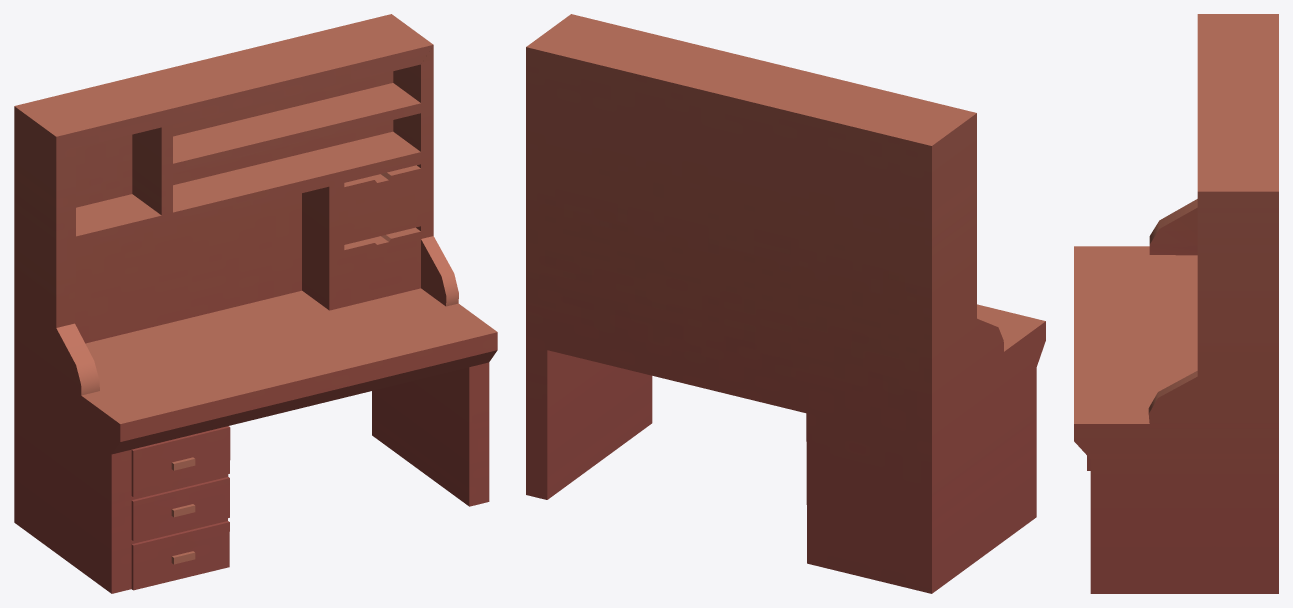
The model's file is SM_Desk_1_01.fbx.
3 views of the same model, side by side, from view 1: azimuth 30°, elevation 25°; view 2: azimuth 150°, elevation 25°; view 3: azimuth 270°, elevation 25° (orthographic). The views are drawn at different scales.
Parts seen in each view (by area): view 1: SM_Desk_1_01; view 2: SM_Desk_1_01; view 3: SM_Desk_1_01.
Boxes of the visible parts, box(x1,y1,x2,y2) form: SM_Desk_1_01: box(14, 14, 497, 593); SM_Desk_1_01: box(526, 14, 1045, 593); SM_Desk_1_01: box(1074, 14, 1278, 593).
Bounding box in the file's own units: 205 × 217 × 100.
